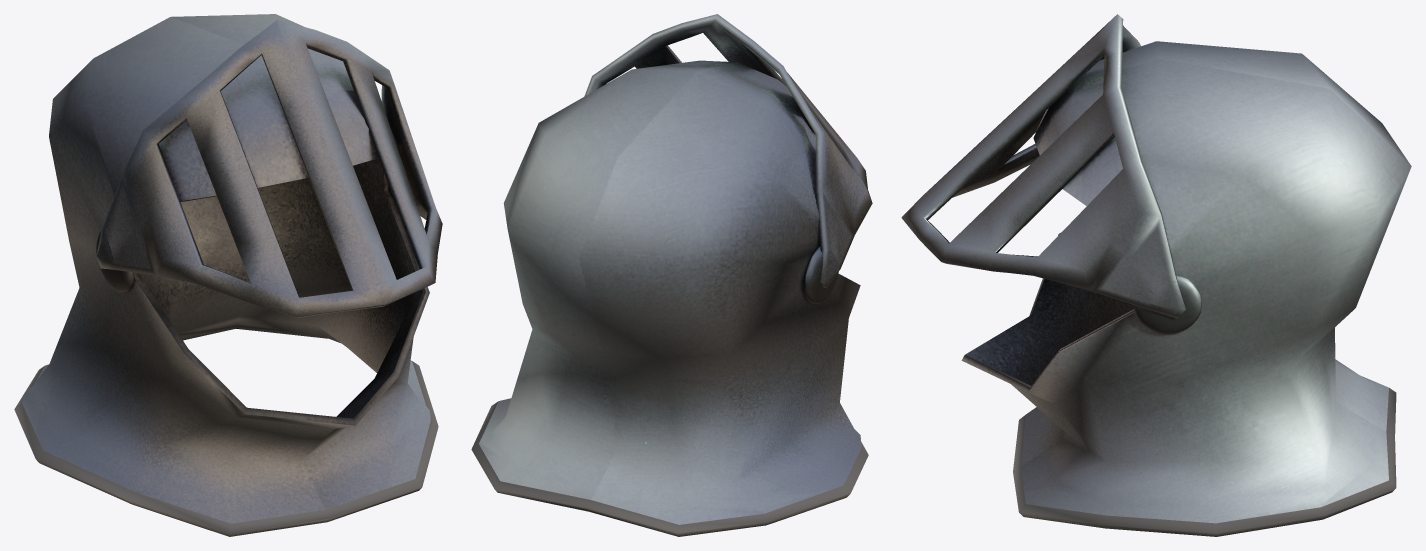
Rendered from SM_Knight_00.fbx.
3 views of the same model, side by side, from view 1: azimuth 30°, elevation 25°; view 2: azimuth 150°, elevation 25°; view 3: azimuth 270°, elevation 25° (orthographic). The views are drawn at different scales.
Visible parts, largest first — view 1: SM_Knight_00; view 2: SM_Knight_00; view 3: SM_Knight_00.
Part boxes in pixels (x1,y1,x2,y2): SM_Knight_00: (14, 14, 442, 536); SM_Knight_00: (471, 14, 872, 536); SM_Knight_00: (901, 14, 1411, 536).
Size of the model in its own units: 46.5 by 53.9 by 53.85.
